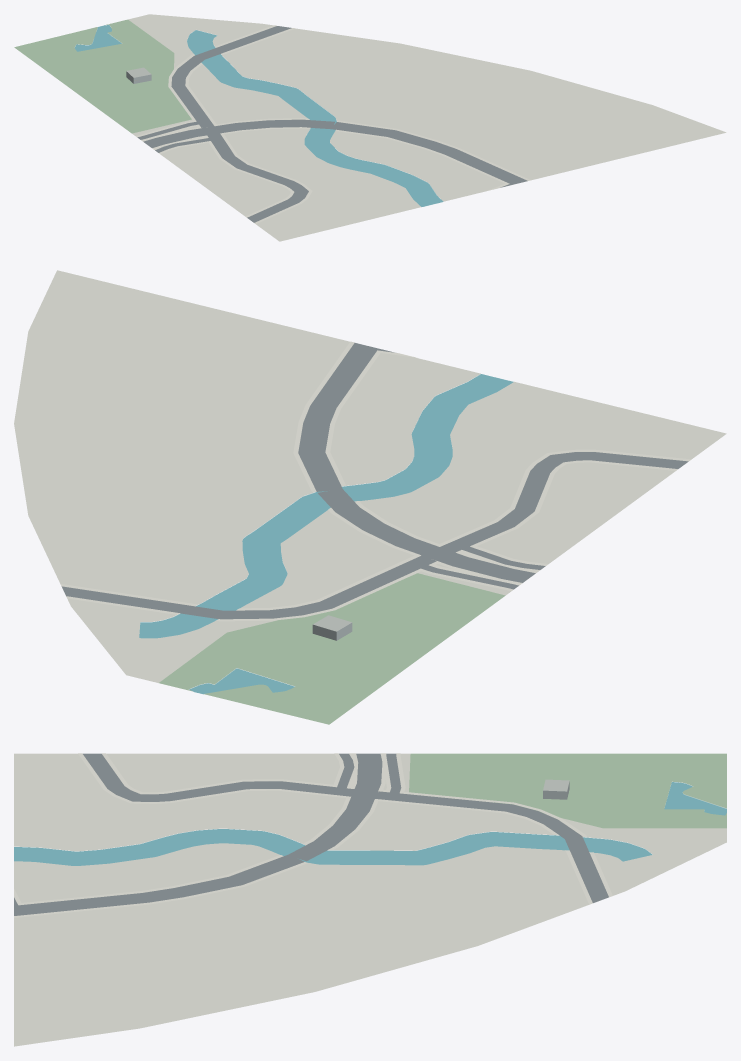
3 renders of one model, top to bottom at view 1: azimuth 30°, elevation 25°; view 2: azimuth 150°, elevation 25°; view 3: azimuth 270°, elevation 25°, orthographic. The views are drawn at different scales.
Parts seen in each view (by area): view 1: city; view 2: city; view 3: city.
Part boxes in pixels (x1,y1,x2,y2): city: (14,14,726,241); city: (14,270,726,724); city: (14,753,726,1046).
Bounding box in the file's own units: 486 × 6.58 × 500.
